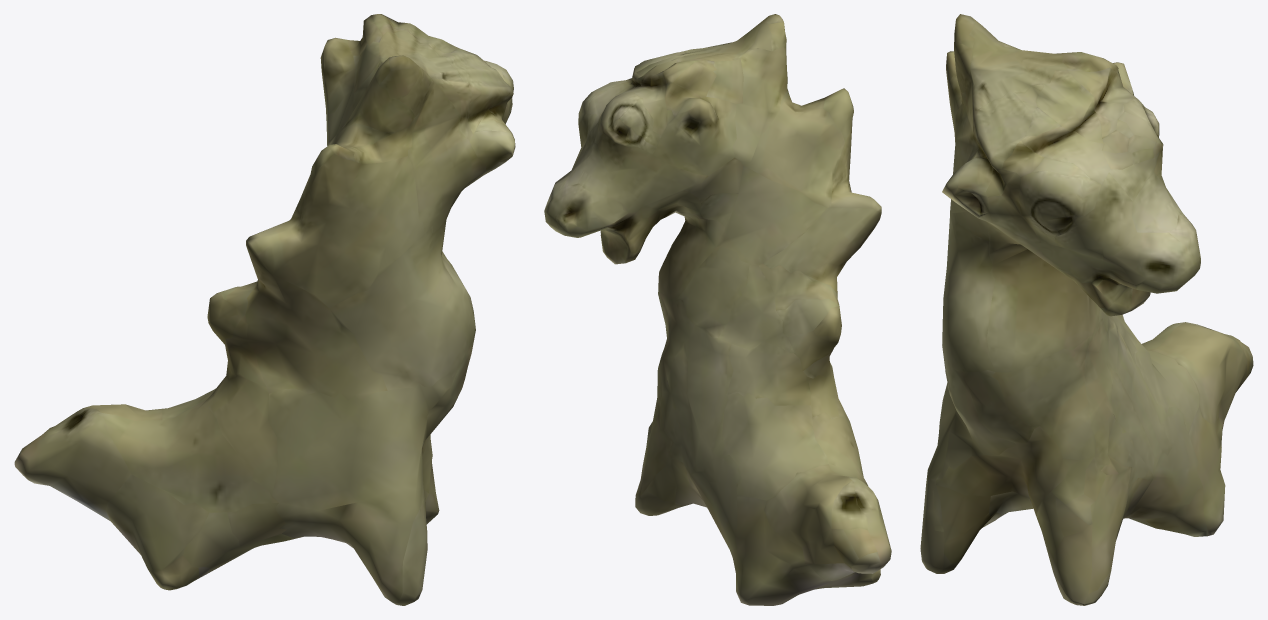
Rendered from hall.glb.
3 renders of one model, left to right at view 1: azimuth 30°, elevation 25°; view 2: azimuth 150°, elevation 25°; view 3: azimuth 270°, elevation 25°, orthographic. The views are drawn at different scales.
Size of the model in its own units: 0.631 by 0.7881 by 0.4243.
1 material, 1 textured.
